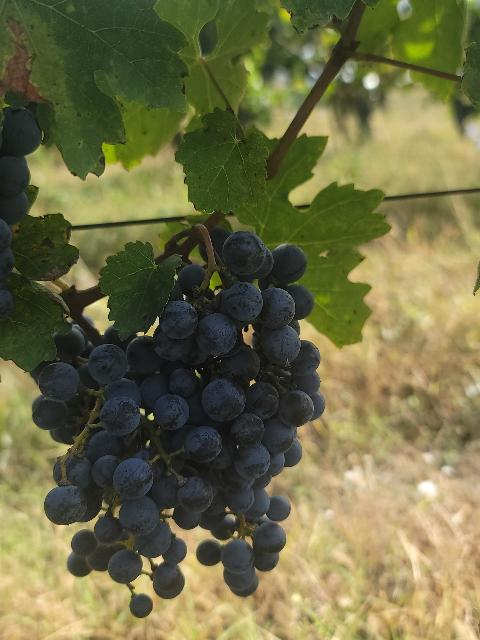grapes: (125, 229, 325, 590), (32, 326, 185, 598)
